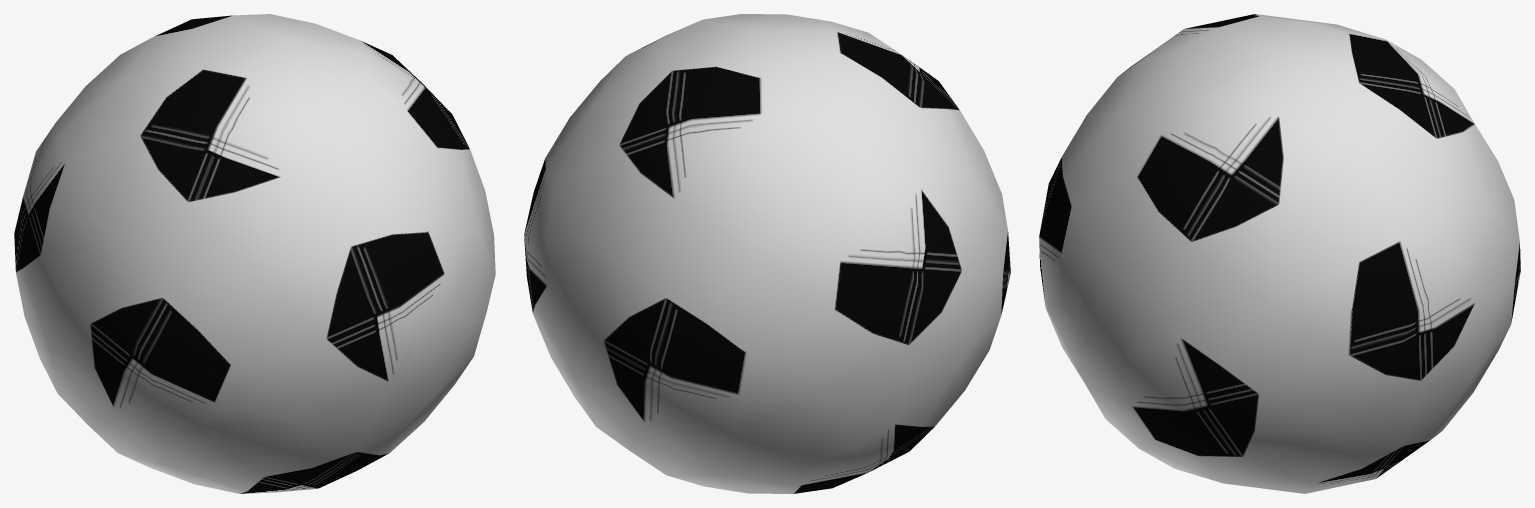
The model's file is SoccerBall.fbx.
3 views of the same model, side by side, from view 1: azimuth 30°, elevation 25°; view 2: azimuth 150°, elevation 25°; view 3: azimuth 270°, elevation 25° (orthographic).
Visible parts, largest first — view 1: SoccerBall; view 2: SoccerBall; view 3: SoccerBall.
Boxes of the visible parts, bbox=[...] form: SoccerBall: bbox=[14, 14, 495, 493]; SoccerBall: bbox=[524, 14, 1010, 493]; SoccerBall: bbox=[1039, 14, 1520, 493].
Bounding box in the file's own units: 18.33 × 18.36 × 18.69.
